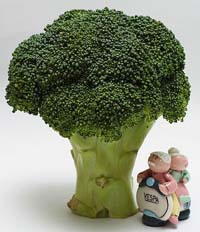broccoli: (5, 5, 192, 219)
